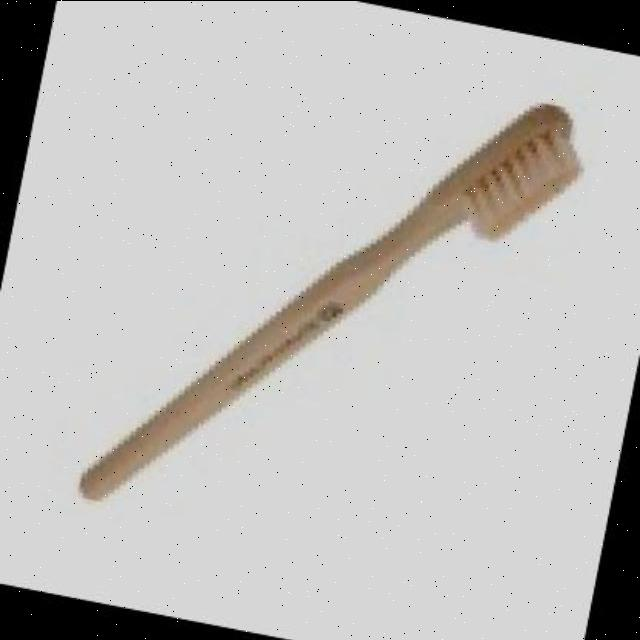toothbrush: (39, 21, 632, 596)
